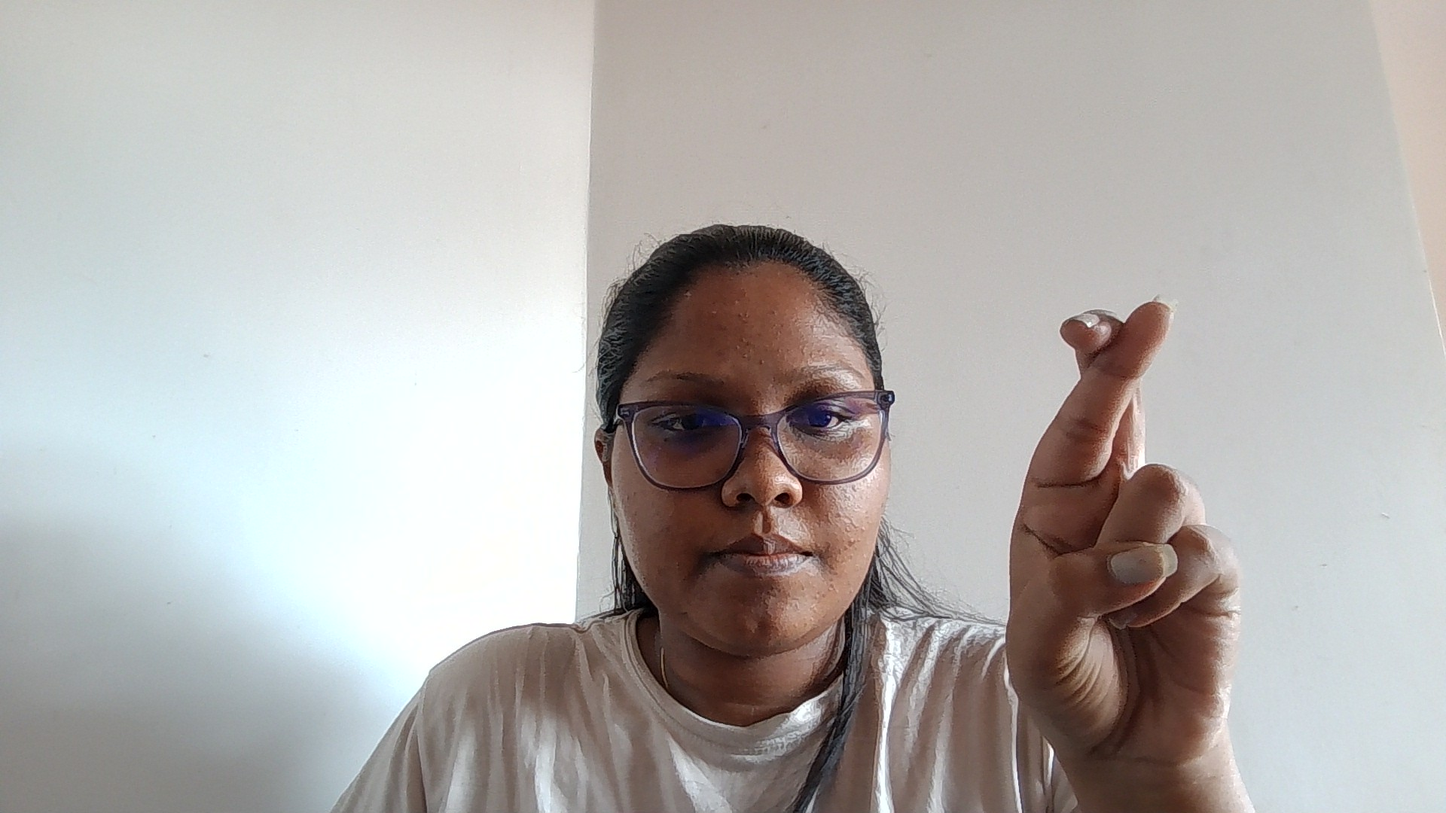Good_Luck: (962, 192, 1305, 813)
